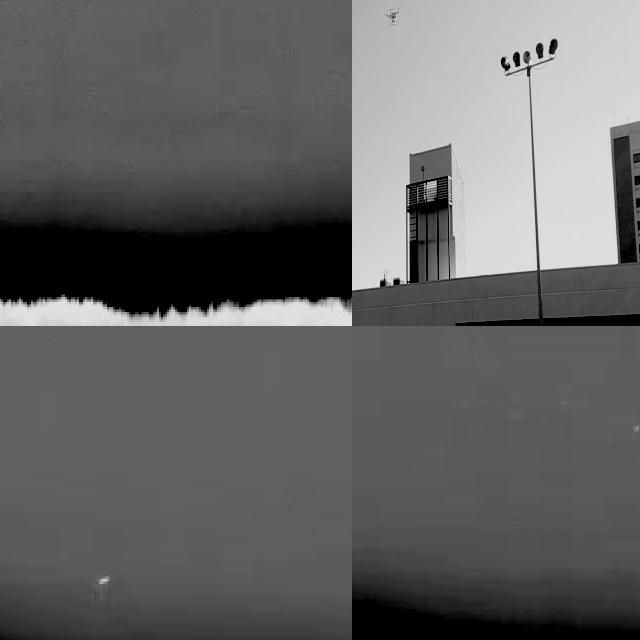0: (628, 418, 640, 441)
1: (84, 564, 124, 609)
drone: (386, 2, 402, 27)
